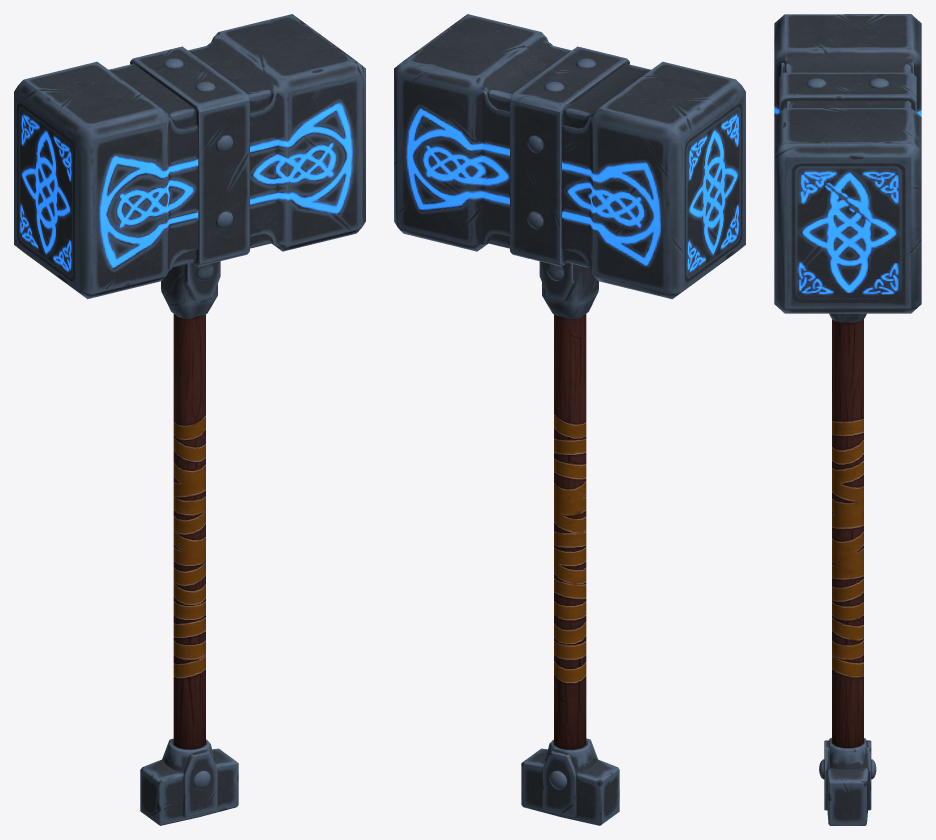
Rendered from Hammer.fbx.
The picture shows the model from 3 angles, left to right: view 1: azimuth 30°, elevation 25°; view 2: azimuth 150°, elevation 25°; view 3: azimuth 270°, elevation 25°; orthographic projection.
Visible parts, largest first — view 1: Hammer; view 2: Hammer; view 3: Hammer.
Part boxes in pixels (x1=…): Hammer: x1=14, y1=14, x2=365, y2=825; Hammer: x1=394, y1=14, x2=745, y2=825; Hammer: x1=774, y1=14, x2=921, y2=825.
Size of the model in its own units: 0.6098 by 1.5 by 0.275.
